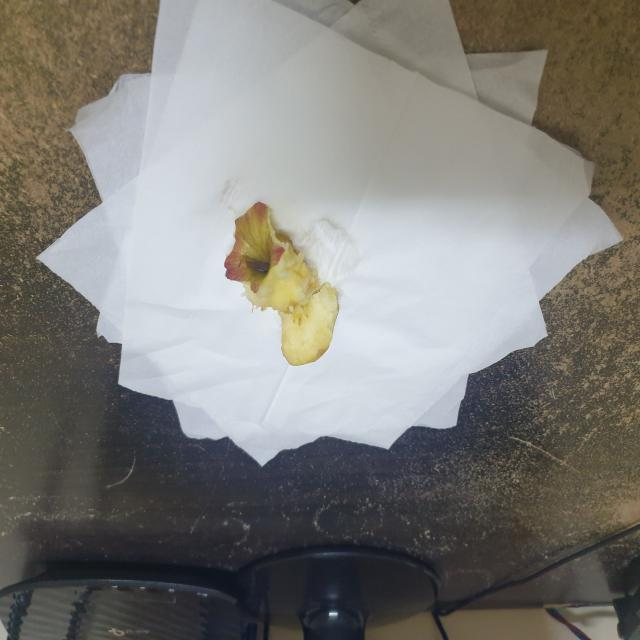apple: (218, 190, 344, 376)
